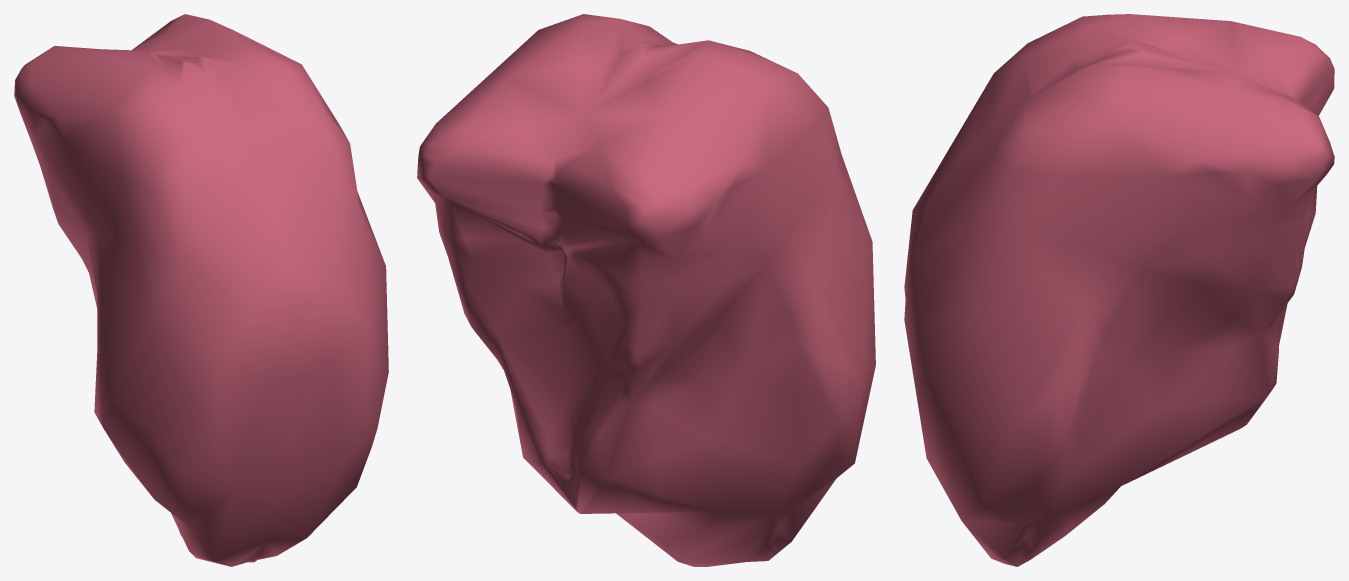
3 renders of one model, left to right at view 1: azimuth 30°, elevation 25°; view 2: azimuth 150°, elevation 25°; view 3: azimuth 270°, elevation 25°, orthographic. The views are drawn at different scales.
Parts seen in each view (by area): view 1: 舌; view 2: 舌; view 3: 舌.
Boxes of the visible parts, x1,y1,x2,y2 form: 舌: (14, 14, 388, 566); 舌: (417, 14, 875, 566); 舌: (904, 14, 1334, 566).
Bounding box in the file's own units: 0.0496 × 0.083 × 0.0628.
